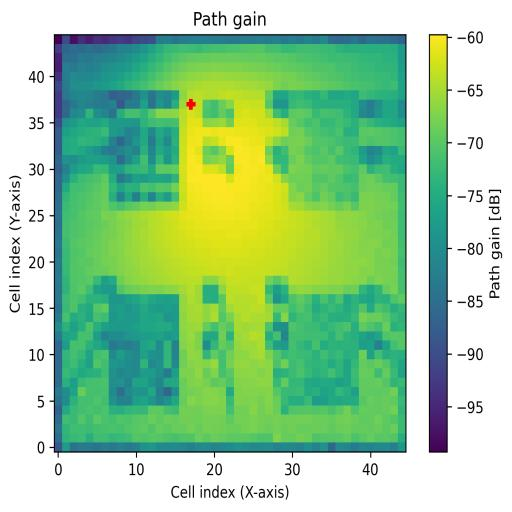Concrete: (288, 90, 358, 210)
Glass: (108, 92, 180, 210)
Metal: (289, 295, 360, 407)
Wood: (110, 294, 179, 406)
